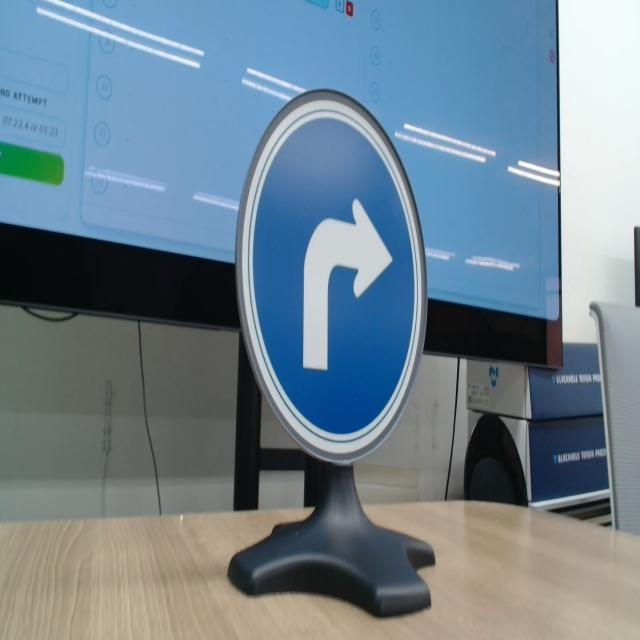right_dierection: (238, 57, 434, 508)
